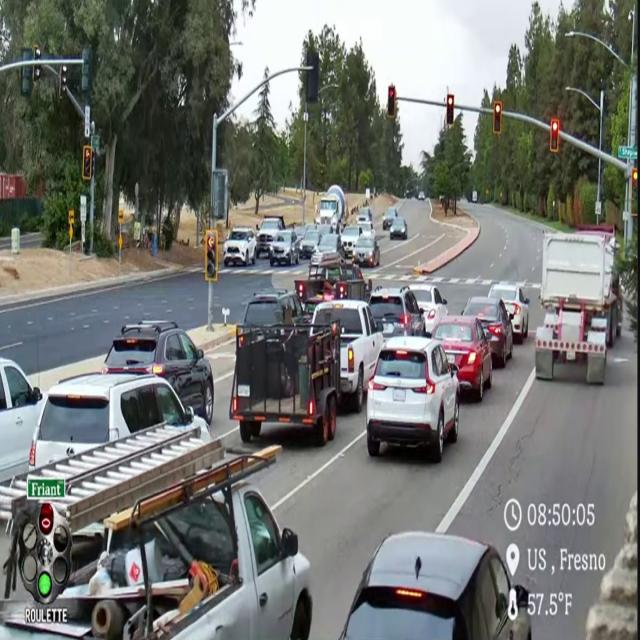car: (340, 532, 531, 639), (29, 373, 210, 468), (102, 320, 214, 424), (367, 337, 459, 463), (0, 359, 43, 480), (433, 316, 492, 401), (462, 296, 513, 367), (369, 286, 425, 337), (489, 283, 529, 343), (242, 288, 303, 326), (409, 283, 447, 334), (223, 227, 256, 266), (256, 216, 285, 258), (269, 230, 299, 266), (353, 238, 380, 266), (314, 234, 343, 258), (341, 225, 362, 257), (300, 228, 320, 258), (389, 216, 407, 239), (382, 207, 398, 230), (294, 224, 314, 239), (357, 207, 373, 223), (358, 222, 375, 237), (316, 224, 333, 236), (418, 191, 426, 201)
traffic signal: (306, 51, 319, 103), (205, 230, 218, 281), (39, 504, 54, 535), (81, 46, 90, 92), (20, 66, 32, 96), (82, 145, 92, 181), (493, 101, 503, 135), (387, 85, 396, 119), (550, 119, 559, 152), (59, 65, 67, 99), (446, 94, 454, 126), (32, 64, 41, 81), (632, 168, 637, 193), (632, 168, 637, 187)
truck: (0, 428, 311, 639), (535, 225, 623, 384), (229, 324, 340, 446), (312, 300, 384, 413), (294, 254, 372, 317), (316, 184, 346, 232), (255, 216, 285, 258)
